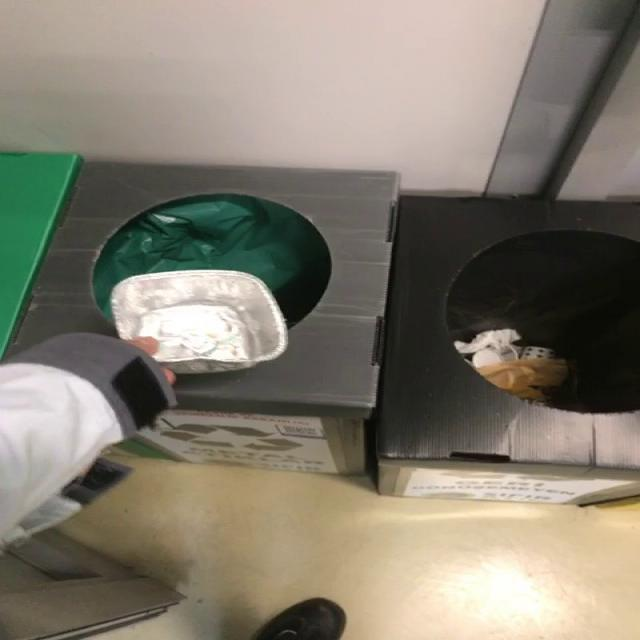metal: (111, 270, 288, 374)
